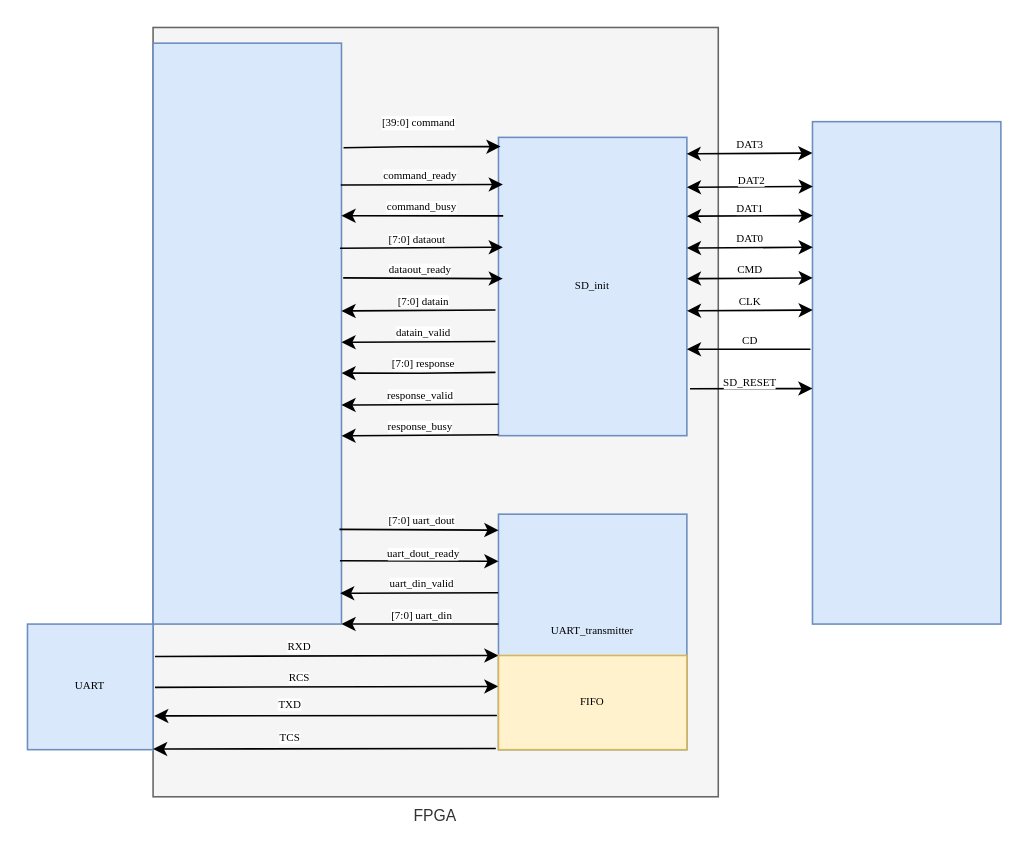
The diagram is 1028 pixels wide and 854 high, and some of its shapes have lost their labels. The shapes that lost their labels are listed below. From the top down, each one's centre as x and y in pixels, then its label:
the point at 246,333: UART_SD_converter
the point at 906,372: SD
